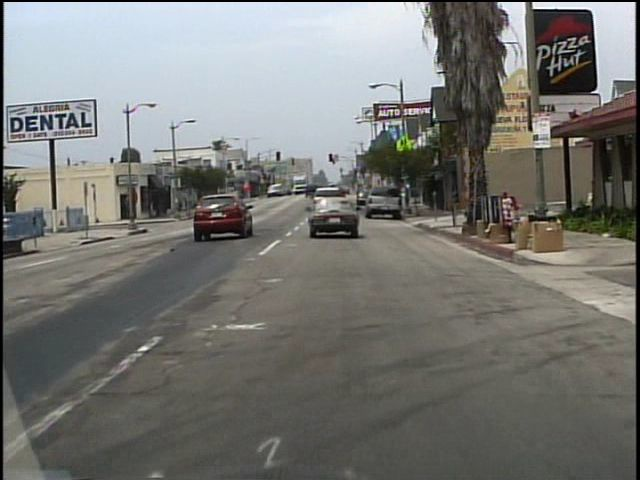person: (479, 180, 490, 214), (469, 183, 478, 210)
